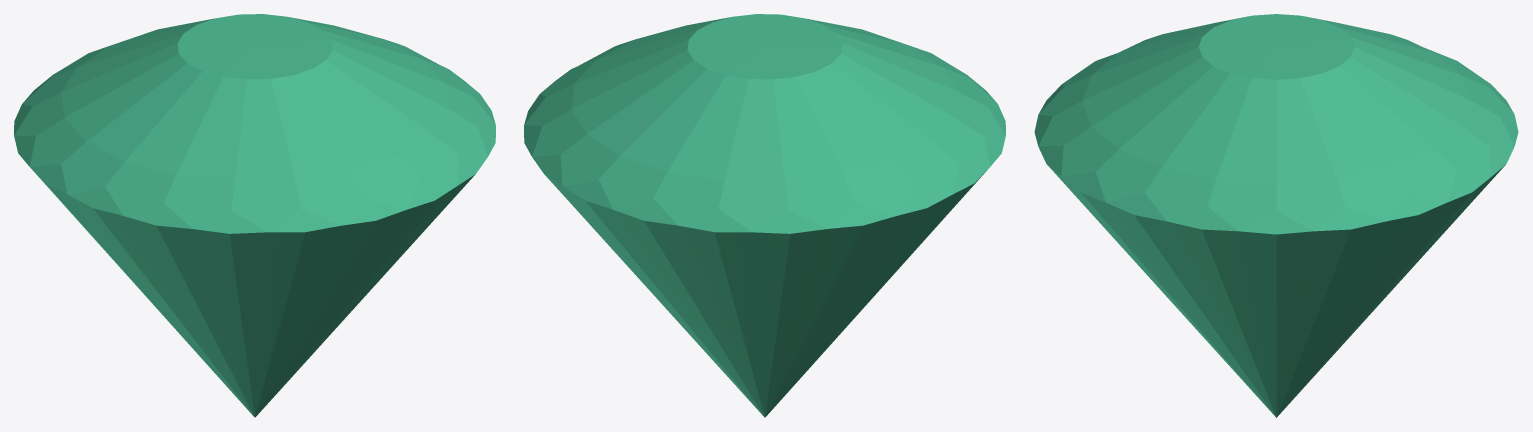
File: Diamond_green.fbx
3 views of the same model, side by side, from view 1: azimuth 30°, elevation 25°; view 2: azimuth 150°, elevation 25°; view 3: azimuth 270°, elevation 25° (orthographic).
Parts seen in each view (by area): view 1: Diamond_green; view 2: Diamond_green; view 3: Diamond_green.
Boxes of the visible parts, x1,y1,x2,y2 form: Diamond_green: (14,14,495,417); Diamond_green: (524,14,1005,417); Diamond_green: (1034,14,1518,417).
Size of the model in its own units: 6.37 by 5.39 by 6.37.
